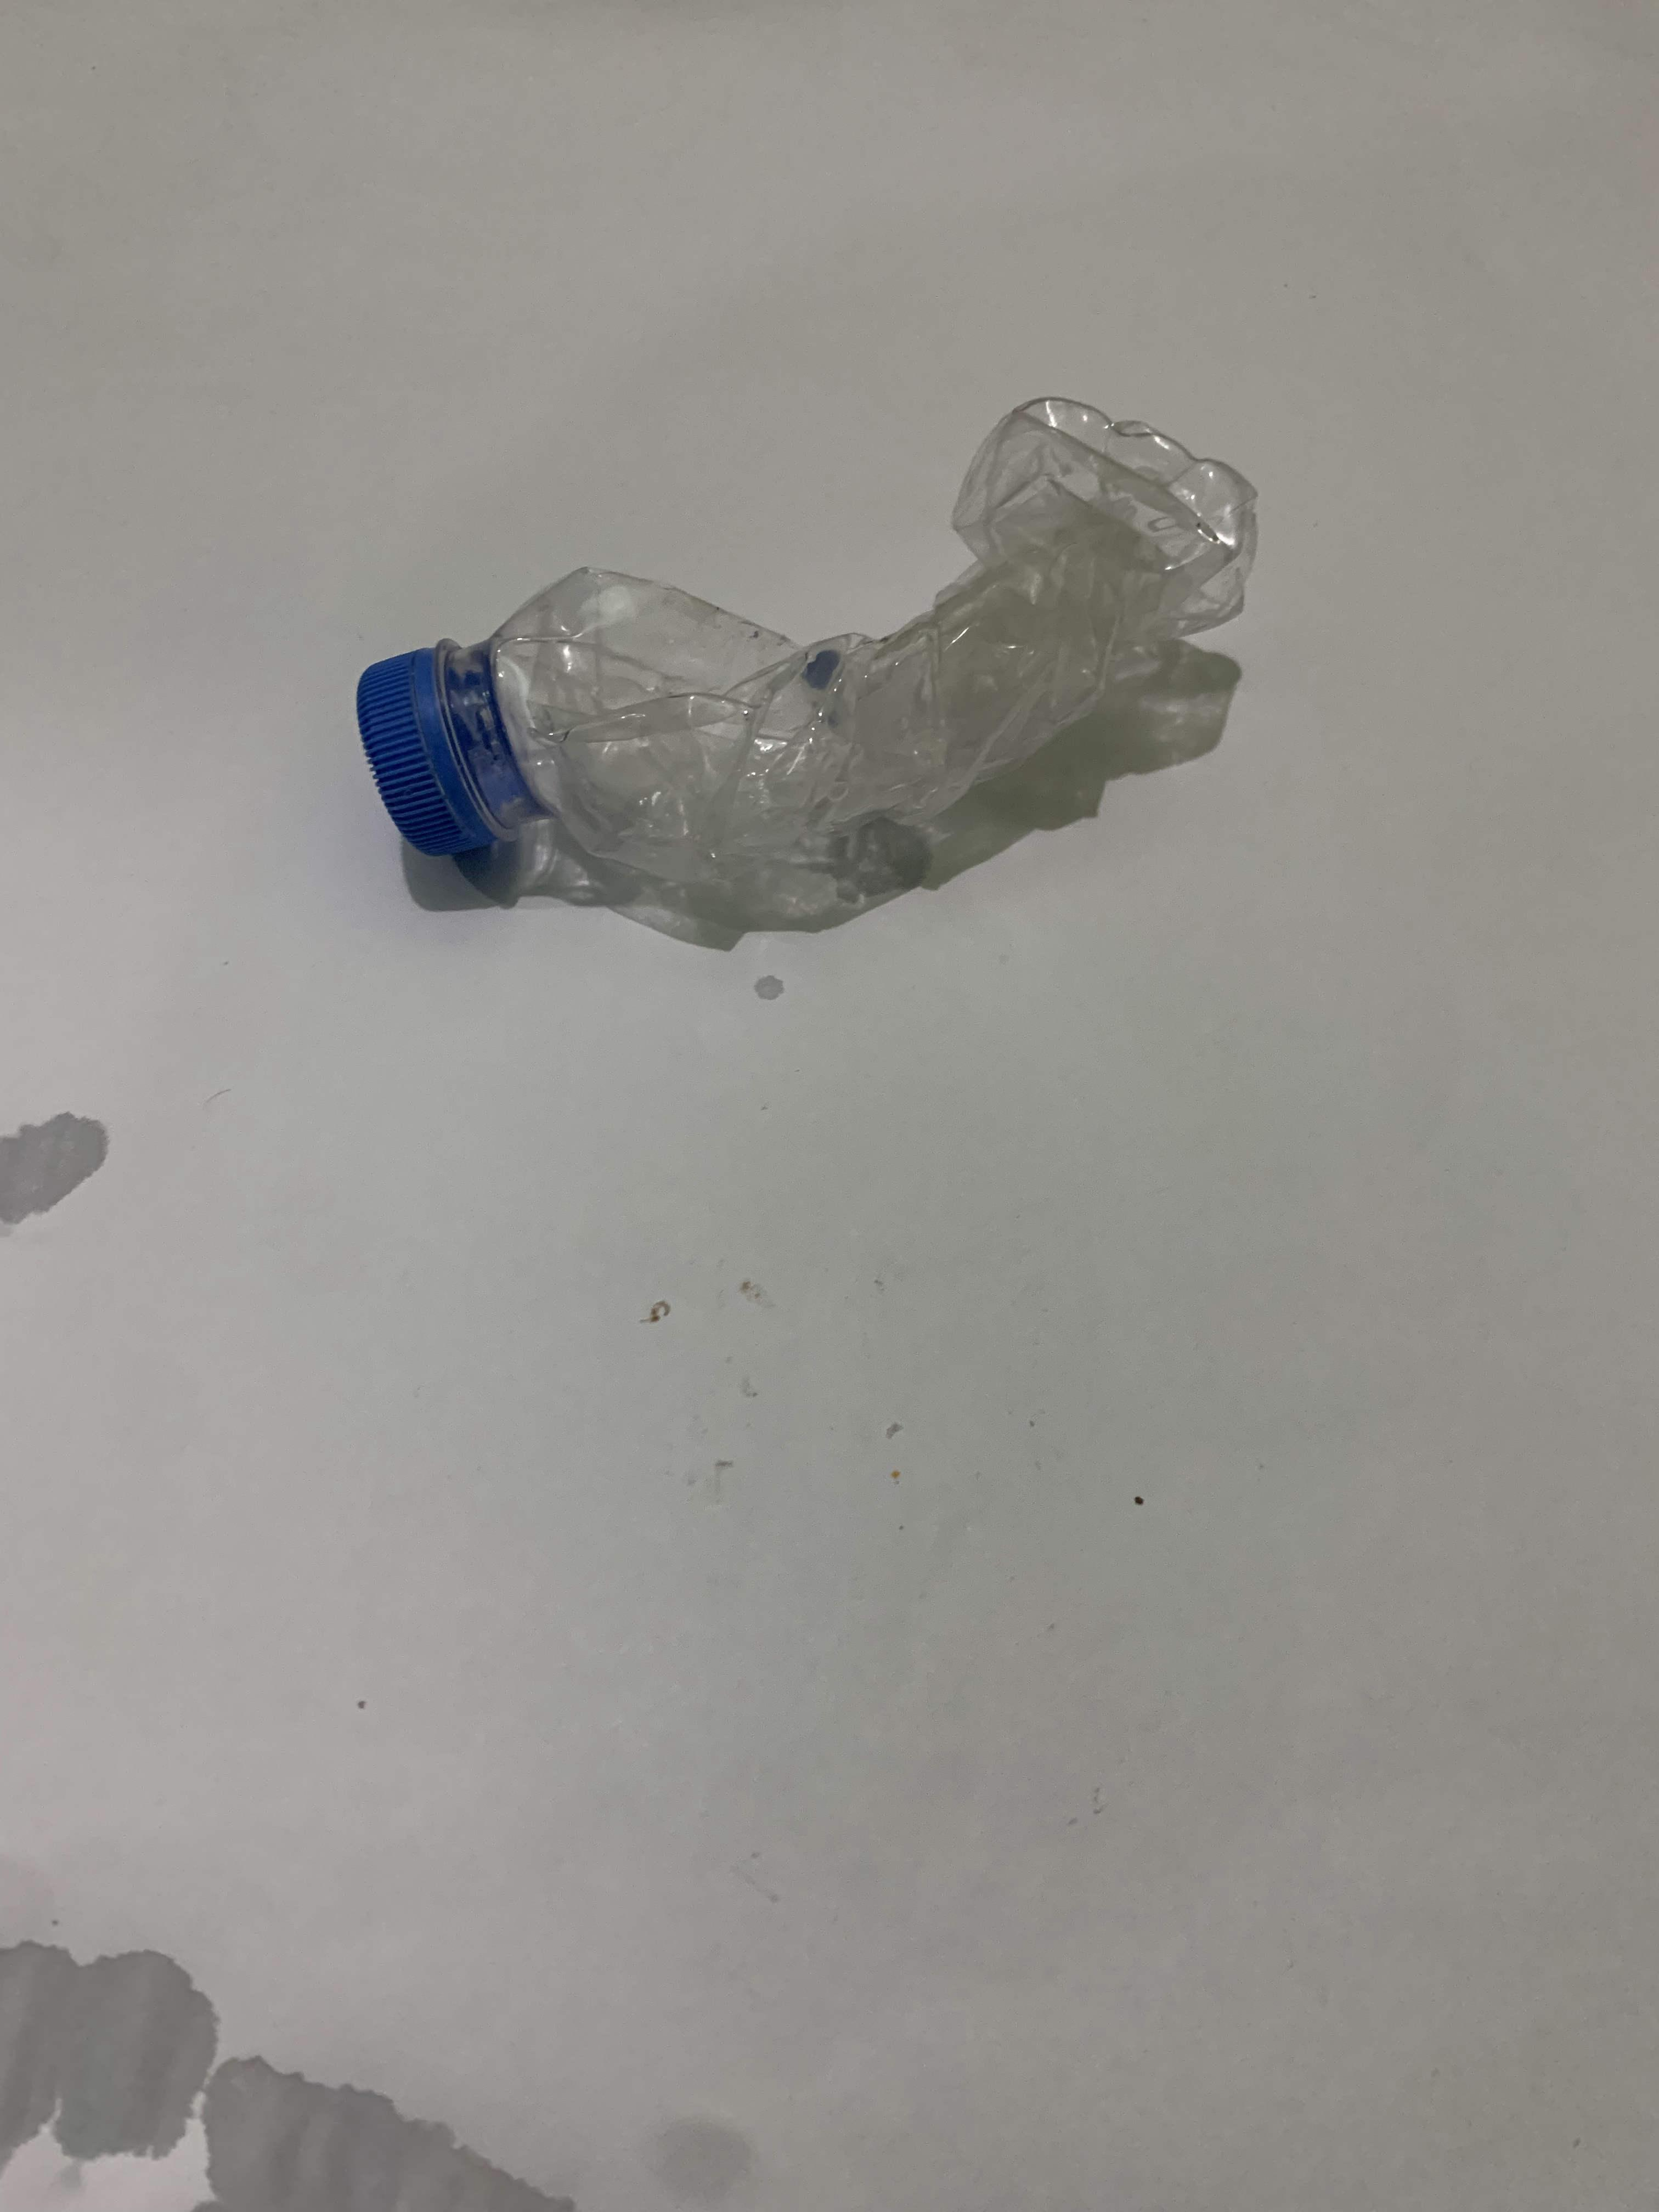bottle: (807, 439, 810, 883)
